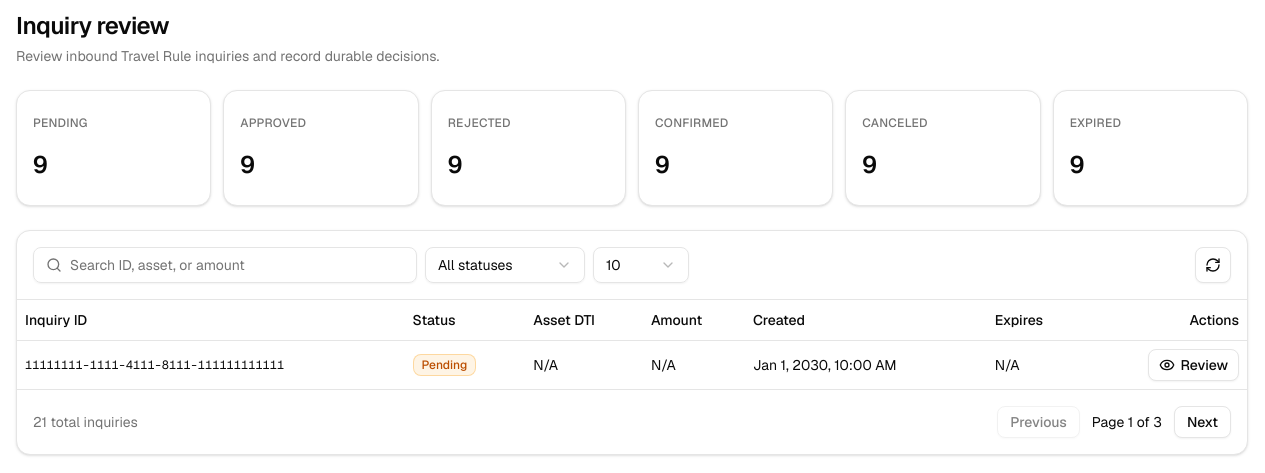
searches all inquiries from page one while keeping global status totals
Expected: the text "11111111-1111-4111-8111-111111111111" is shown, [17,340,405,388]
Click the button with aria-label "Next page" at x=1202, y=422, box [1174,406,1231,438]
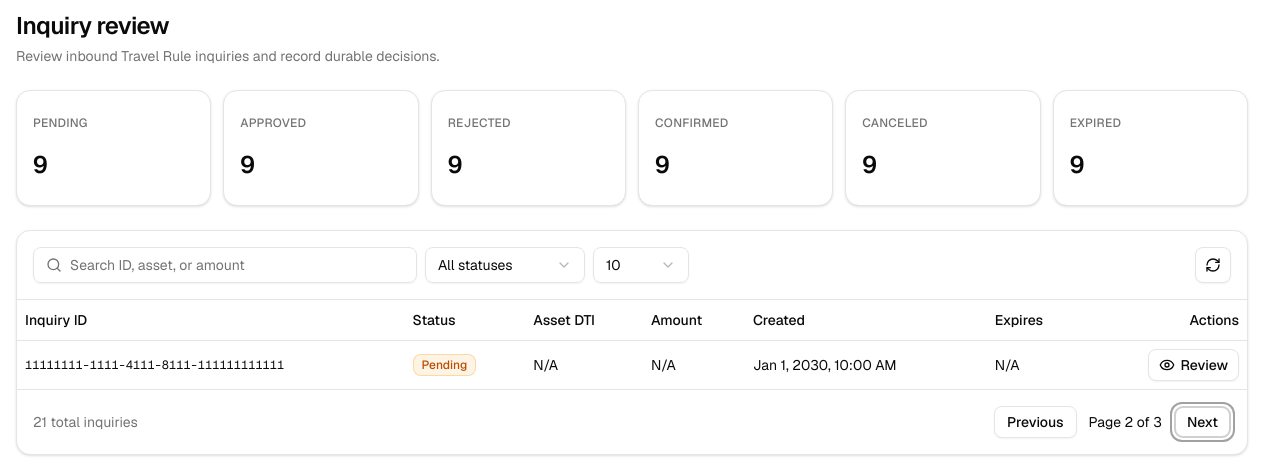
Type "outside" into the field named "Search inquiries" at x=239, y=265, box [62,247,416,283]
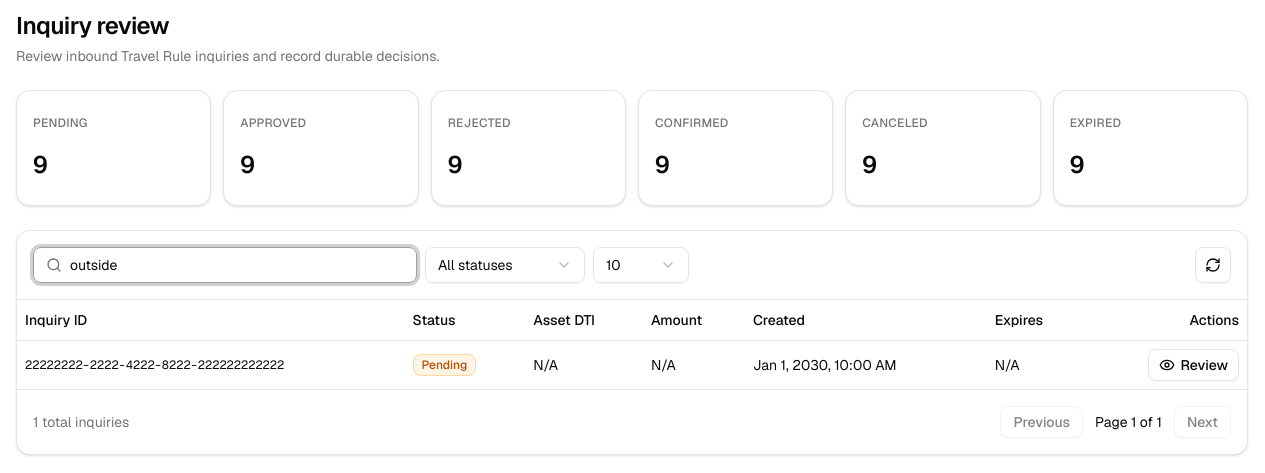
Expected: the button "Pending 9" is shown, [17,115,210,181]
Expected: the text "22222222-2222-4222-8222-222222222222" is shown, [17,340,405,388]
